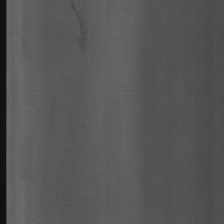water_spot: (69, 1, 90, 60)
